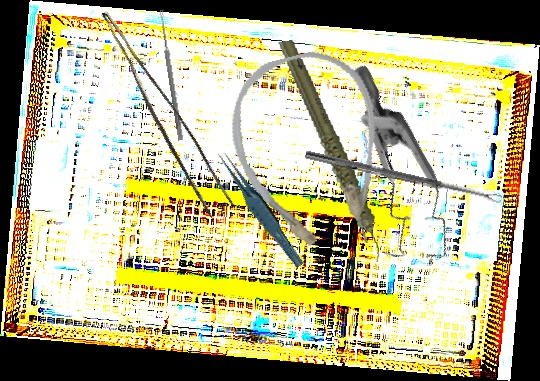Cannula: (216, 40, 405, 269)
Handpiece: (277, 30, 384, 273)
Speculum: (275, 62, 508, 286)
Surgical Spoon: (304, 150, 503, 205), (157, 9, 185, 141)
Tissue Forceps: (79, 10, 240, 220), (215, 143, 306, 274)
